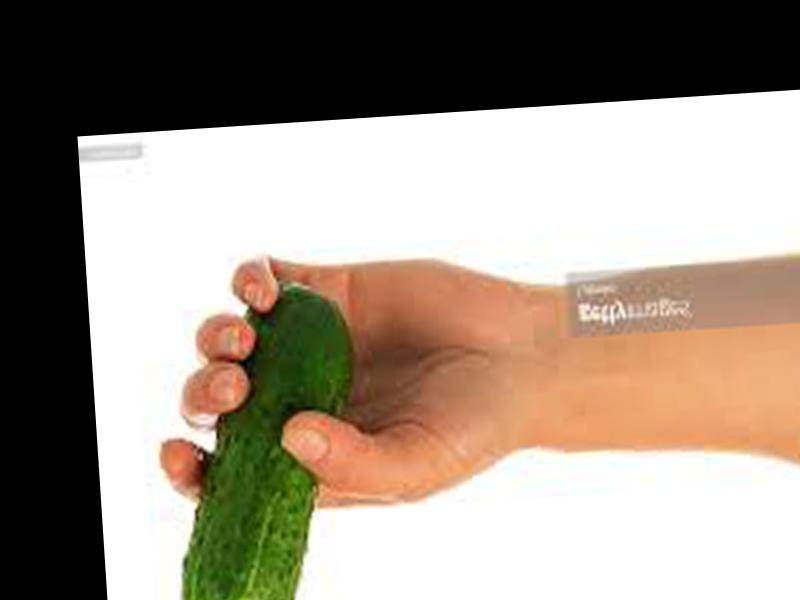Cucumber: (163, 282, 369, 600)
